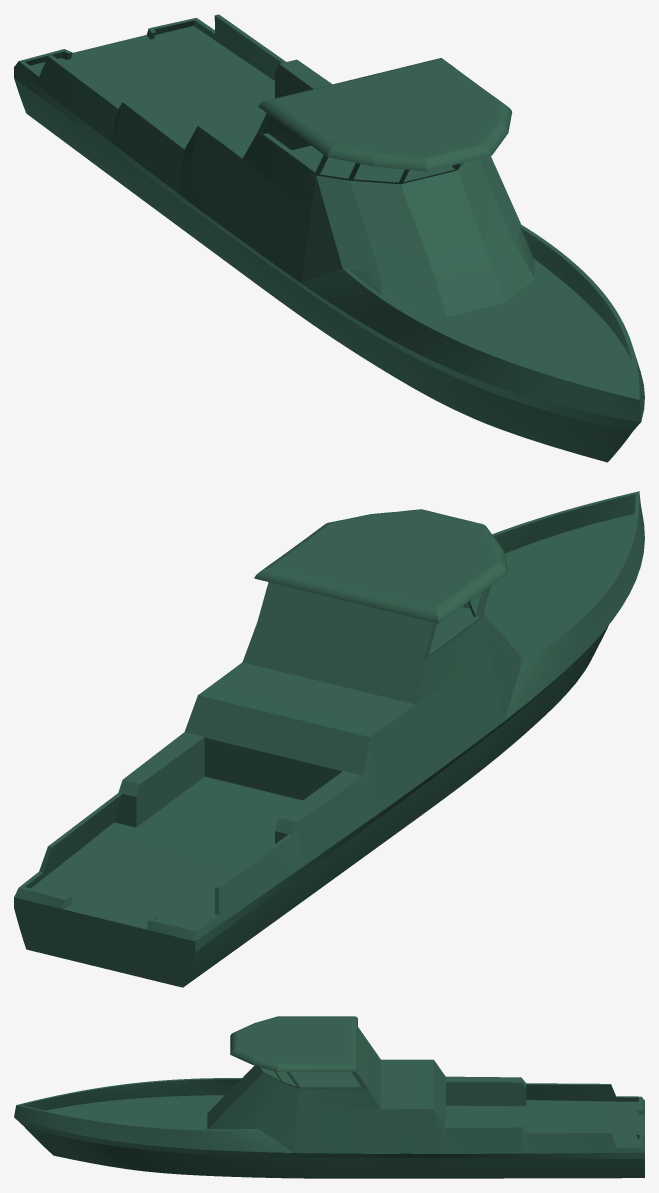
The model's file is barco.gltf.
3 views of the same model, one above another, from view 1: azimuth 30°, elevation 25°; view 2: azimuth 150°, elevation 25°; view 3: azimuth 270°, elevation 25° (orthographic). The views are drawn at different scales.
Visible parts, largest first — view 1: Casco_corte_completo; view 2: Casco_corte_completo; view 3: Casco_corte_completo.
Boxes of the visible parts, <box> form: Casco_corte_completo: <box>14,14,644,462</box>; Casco_corte_completo: <box>14,491,644,987</box>; Casco_corte_completo: <box>14,1016,644,1178</box>.
Bounding box in the file's own units: 45.7 × 42.28 × 209.
